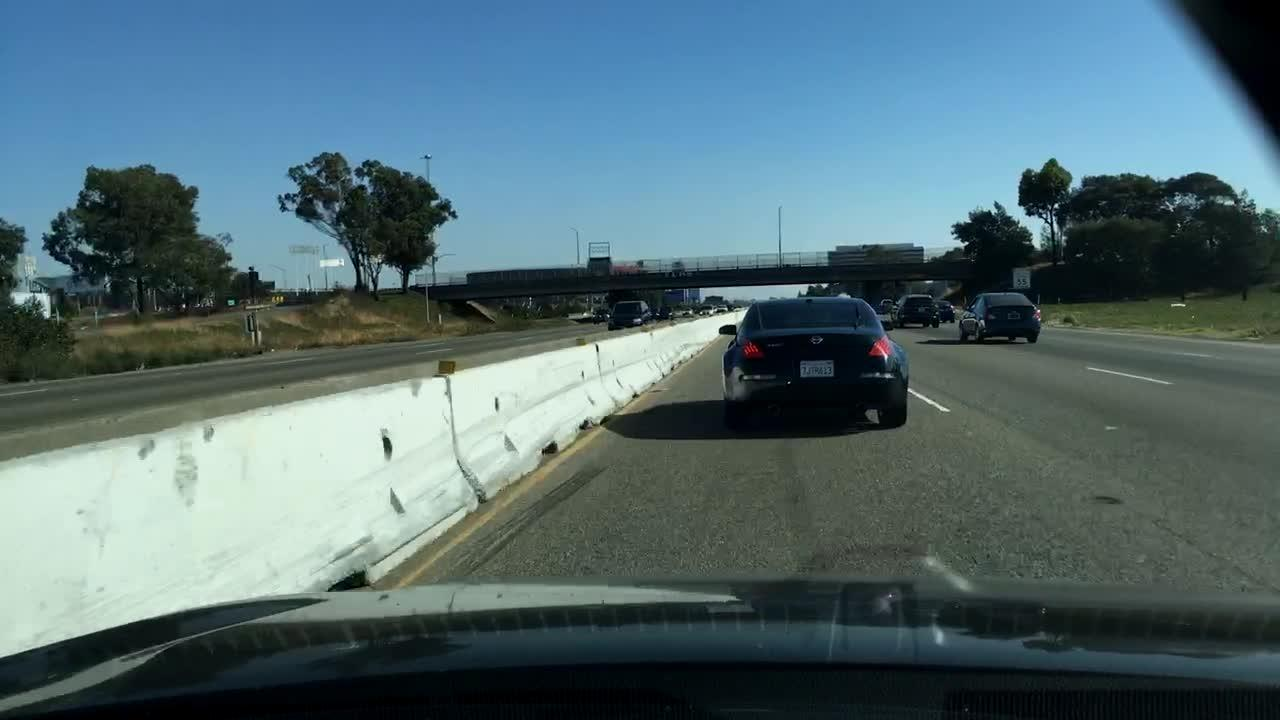Nissan: (806, 332, 828, 346)
